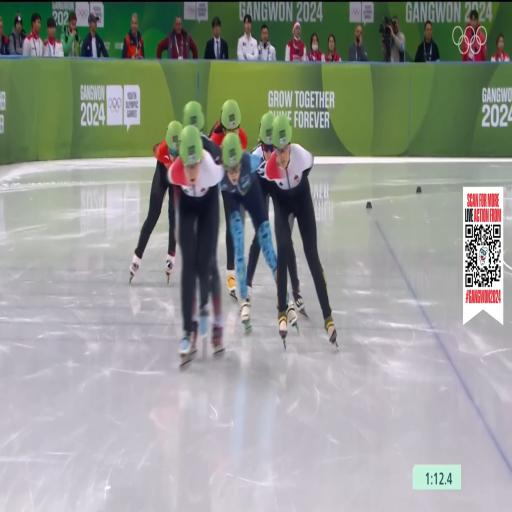Skater: (266, 116, 337, 347), (169, 126, 224, 365), (221, 134, 277, 331), (130, 121, 182, 282), (183, 101, 221, 163), (222, 192, 237, 300), (288, 245, 307, 316)
